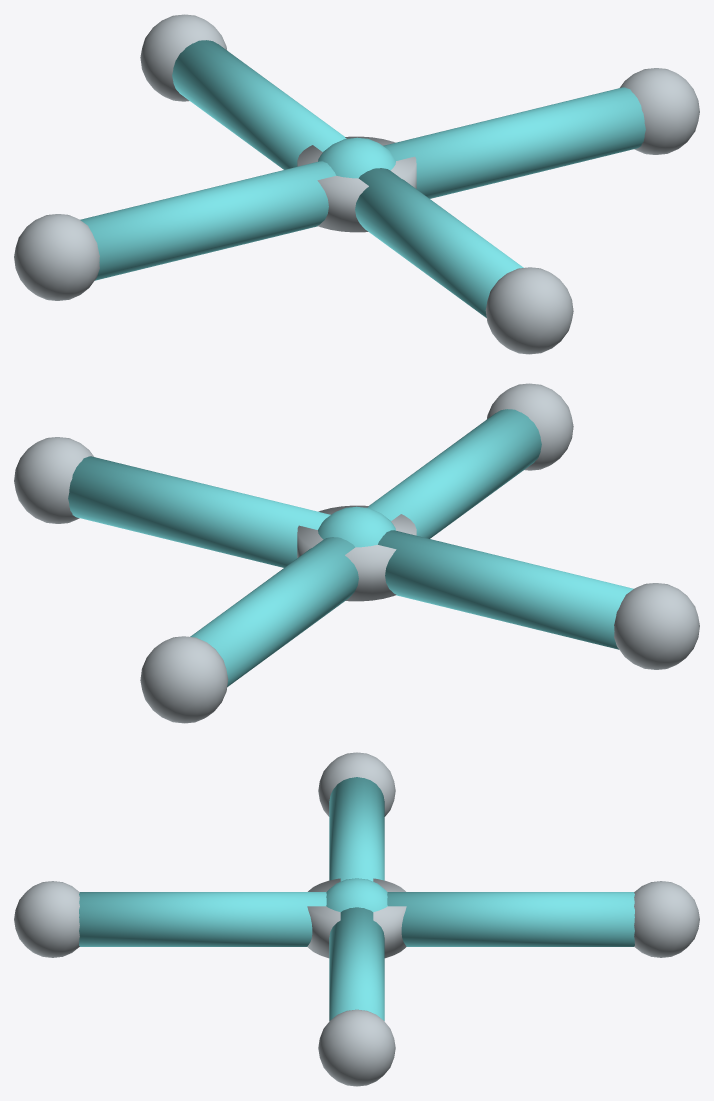
The model's file is conduit_cross_ultra.glb.
The picture shows the model from 3 angles, top to bottom: view 1: azimuth 30°, elevation 25°; view 2: azimuth 150°, elevation 25°; view 3: azimuth 270°, elevation 25°; orthographic projection. The views are drawn at different scales.
Parts seen in each view (by area): view 1: Conduit_cyan, Coupler_steel, JunctionCap_steel, Junction_cyan; view 2: Conduit_cyan, Coupler_steel, JunctionCap_steel, Junction_cyan; view 3: Conduit_cyan, Coupler_steel, JunctionCap_steel, Junction_cyan.
Boxes of the visible parts, box(x1,y1,x2,y2) form: Conduit_cyan: box(80, 40, 645, 317); Coupler_steel: box(14, 14, 699, 354); JunctionCap_steel: box(297, 136, 416, 232); Junction_cyan: box(318, 137, 395, 178); Conduit_cyan: box(68, 409, 633, 686); Coupler_steel: box(14, 383, 699, 723); JunctionCap_steel: box(297, 505, 416, 601); Junction_cyan: box(318, 506, 395, 547); Conduit_cyan: box(79, 777, 634, 1020); Coupler_steel: box(14, 752, 699, 1086); JunctionCap_steel: box(307, 878, 406, 958); Junction_cyan: box(326, 878, 387, 912).
Bounding box in the file's own units: 2.48 × 0.3 × 2.48.
